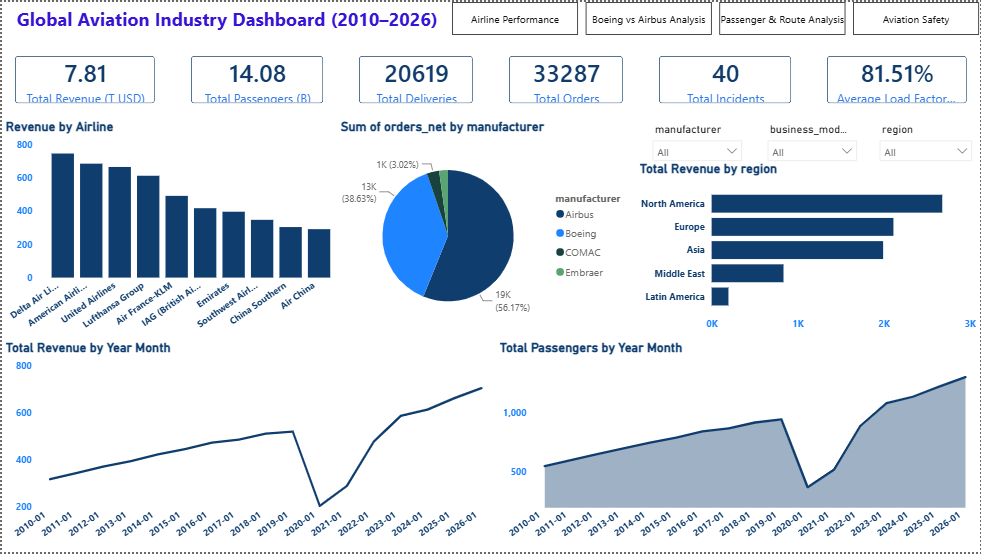

What the dashboard file says about the page in this screenshot:
{"tool":"powerbi","page":{"name":"Aviation Overview ","canvas":[1280,720],"ordinal":0},"visuals":[{"type":"textbox","box":[0,0,589.7,43.5],"z":0,"group":"g2"},{"type":"group","id":"g1","title":"Group 1","box":[0,54,1280,96],"z":1000,"group":"g2"},{"type":"cardVisual","fields":{"Data":["Measure Table.Revenue (Trillion USD)"]},"box":[0,54,217.6,96],"z":1000,"group":"g1"},{"type":"pageNavigator","box":[589.7,0,690.3,43.5],"z":2000,"group":"g2"},{"type":"cardVisual","fields":{"Data":["Measure Table.Total Passengers (Billions)"]},"box":[230.5,54,207.1,96],"z":2000,"group":"g1"},{"type":"cardVisual","fields":{"Data":["Measure Table.Average Load Factor %"]},"box":[1062.4,54,217.6,96],"z":3000,"group":"g1"},{"type":"lineChart","fields":{"Y":["Measure Table.Total Revenue"],"Category":["Dim Date.Year Month"]},"box":[0,442.7,646.8,277.6],"z":3000,"group":"g2"},{"type":"cardVisual","fields":{"Data":["Measure Table.Total Orders"]},"box":[646.5,54,183.1,96],"z":4000,"group":"g1"},{"type":"areaChart","fields":{"Category":["Dim Date.Year Month"],"Y":["Measure Table.Total Passengers"]},"box":[646.8,442.7,633.2,277.6],"z":4000,"group":"g2"},{"type":"cardVisual","fields":{"Data":["Measure Table.Total Deliveries"]},"box":[450.5,54,183.1,96],"z":5000,"group":"g1"},{"type":"clusteredBarChart","fields":{"Y":["Measure Table.Total Revenue"],"Category":["Airline Financials.region"]},"box":[829.8,208.6,450.2,231.1],"z":5000,"group":"g2"},{"type":"cardVisual","fields":{"Data":["Measure Table.Total Incidents"]},"box":[842.4,54,207.1,96],"z":6000,"group":"g1"},{"type":"lineStackedColumnComboChart","title":"Revenue by Airline","fields":{"Category":["Airline Financials.airline_name"],"Y":["Measure Table.Total Revenue"]},"box":[0,153.1,450.2,286.6],"z":6000,"group":"g2"},{"type":"slicer","fields":{"Values":["Airline Financials.region"]},"box":[1138.9,153.1,141.1,55.5],"z":7000,"group":"g2"},{"type":"pieChart","fields":{"Category":["Fleet Orders.manufacturer"],"Y":["Sum(Fleet Orders.orders_net)"]},"box":[438.2,153.1,391.7,286.6],"z":8000,"group":"g2"},{"type":"slicer","fields":{"Values":["Airline Financials.business_model"]},"box":[991.9,153.1,136.6,55.5],"z":9000,"group":"g2"},{"type":"slicer","fields":{"Values":["Fleet Orders.manufacturer"]},"box":[841.8,153.1,136.6,55.5],"z":10000,"group":"g2"},{"type":"group","id":"g2","title":"Group 2","box":[0,0,1280,720.2],"z":10001}]}

Visuals, with their boxes in screenshot pixels (x1, y1, x2, y2), scaled from the page's 1280x720 canvas onto the 981x554 screenshot:
textbox: 0:0:452:33
"Group 1" group: 0:42:980:115
cardVisual - Measure Table.Revenue (Trillion USD): 0:42:167:115
pageNavigator: 452:0:980:33
cardVisual - Measure Table.Total Passengers (Billions): 177:42:335:115
cardVisual - Measure Table.Average Load Factor %: 814:42:980:115
lineChart - Measure Table.Total Revenue x Dim Date.Year Month: 0:341:496:553
cardVisual - Measure Table.Total Orders: 495:42:636:115
areaChart - Dim Date.Year Month x Measure Table.Total Passengers: 496:341:980:553
cardVisual - Measure Table.Total Deliveries: 345:42:486:115
clusteredBarChart - Measure Table.Total Revenue x Airline Financials.region: 636:161:980:338
cardVisual - Measure Table.Total Incidents: 646:42:804:115
"Revenue by Airline" lineStackedColumnComboChart: 0:118:345:338
slicer - Airline Financials.region: 873:118:980:161
pieChart - Fleet Orders.manufacturer x Sum(Fleet Orders.orders_net): 336:118:636:338
slicer - Airline Financials.business_model: 760:118:865:161
slicer - Fleet Orders.manufacturer: 645:118:750:161
"Group 2" group: 0:0:980:553
